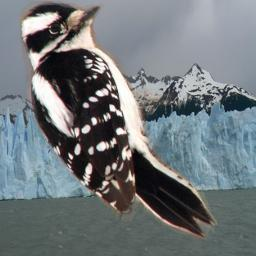Woodpecker: (19, 1, 217, 244)
